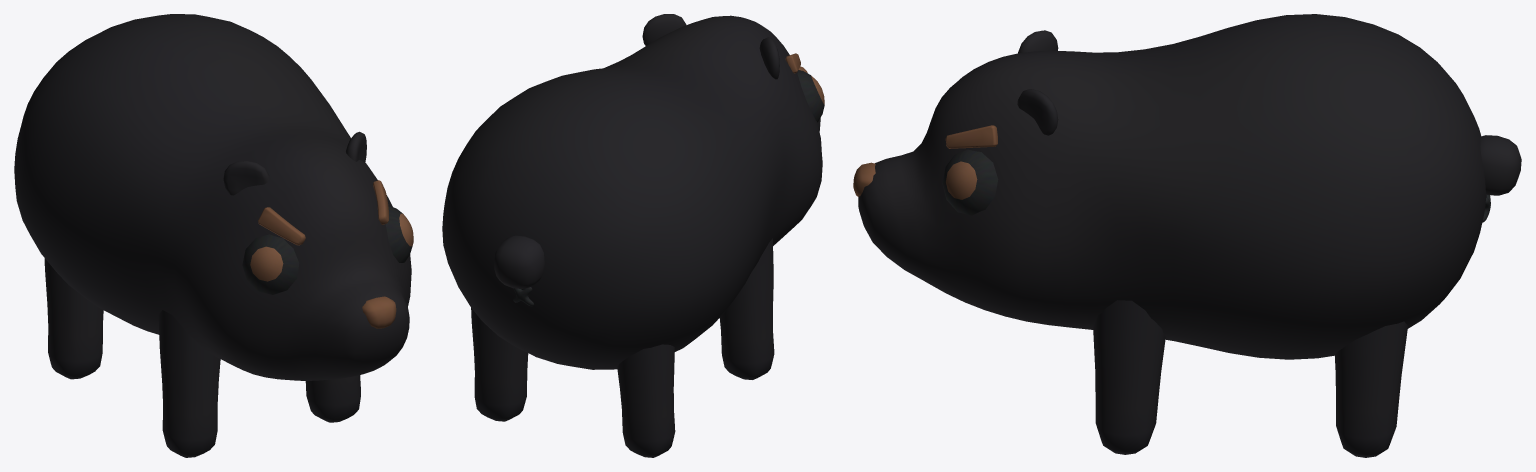
Rendered from Gau.fbx.
3 renders of one model, left to right at view 1: azimuth 30°, elevation 25°; view 2: azimuth 150°, elevation 25°; view 3: azimuth 270°, elevation 25°, orthographic. The views are drawn at different scales.
Parts seen in each view (by area): view 1: Gaufull; view 2: Gaufull; view 3: Gaufull.
Boxes of the visible parts, x1,y1,x2,y2 form: Gaufull: (14, 14, 413, 457); Gaufull: (442, 14, 824, 457); Gaufull: (853, 14, 1521, 457).
Size of the model in its own units: 174 by 205 by 327.
